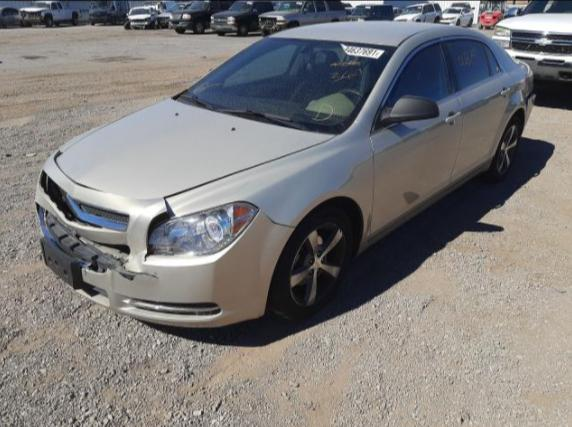Broken part: (33, 148, 298, 328)
Missing part: (40, 206, 127, 266), (40, 174, 127, 230), (42, 239, 74, 287)
